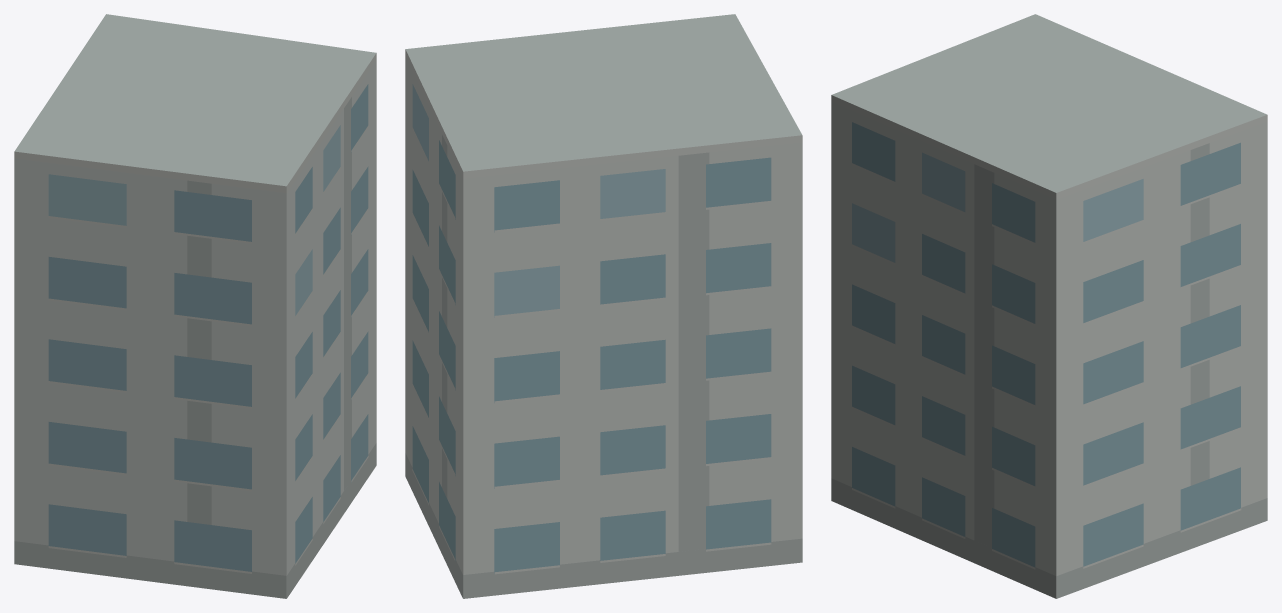
The model's file is survey-upis-32686908.glb.
3 renders of one model, left to right at view 1: azimuth 30°, elevation 25°; view 2: azimuth 150°, elevation 25°; view 3: azimuth 270°, elevation 25°, orthographic. The views are drawn at different scales.
Visible parts, largest first — view 1: survey-upis-32686908.tmp; view 2: survey-upis-32686908.tmp; view 3: survey-upis-32686908.tmp.
Part boxes in pixels (x1,y1,x2,y2): survey-upis-32686908.tmp: [14, 14, 376, 598]; survey-upis-32686908.tmp: [405, 14, 802, 598]; survey-upis-32686908.tmp: [831, 14, 1267, 598].
Bounding box in the file's own units: 13.63 × 14.4 × 14.03.
